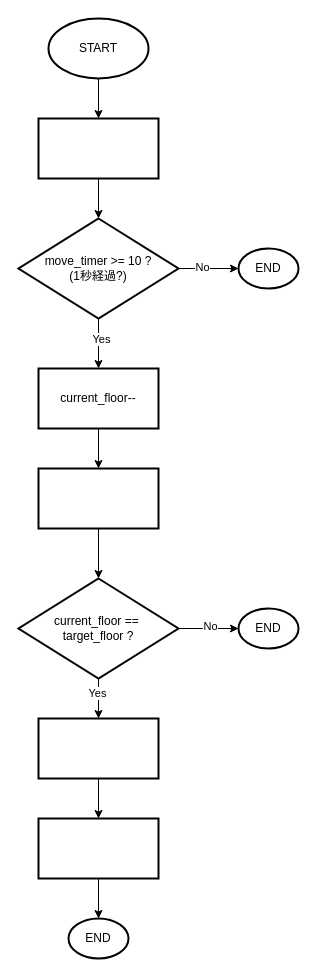
This 316x976 diagram has some shape labels left out. Here are the shapes that lost their labels. From the top down, the centre of each, then its label:
the point at 98,148: move_timerを加算
the point at 98,498: move_timer = 0
the point at 98,748: current_state = DOOR_OPEN
the point at 98,848: door_timer = 0
